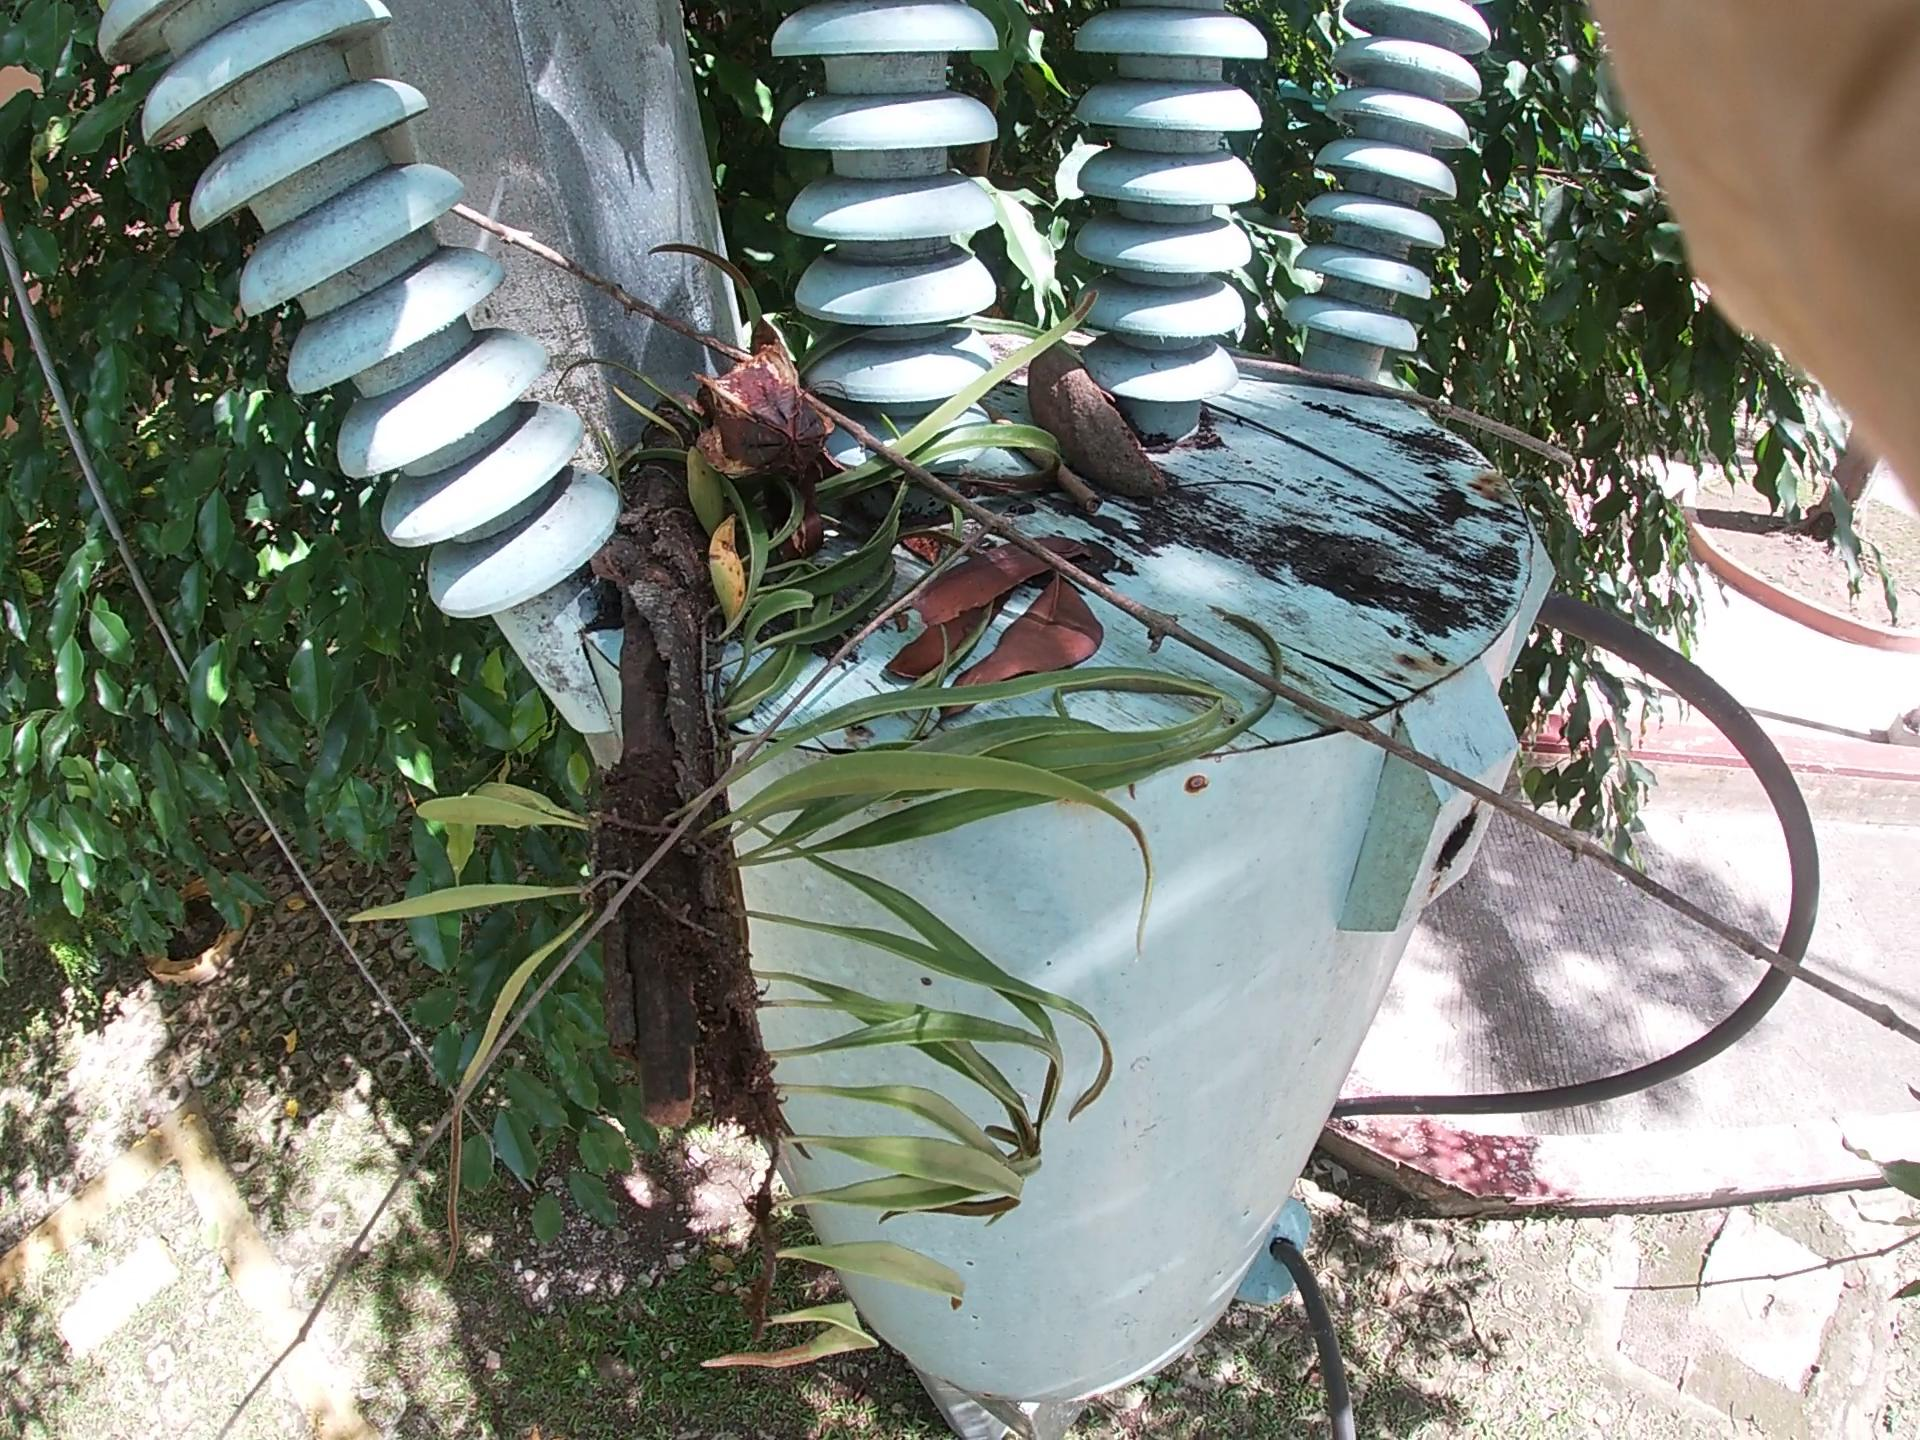branch with leaves: (404, 343, 915, 1221)
leaf: (921, 440, 1179, 773)
mahogany fruit: (674, 331, 940, 604), (1002, 299, 1209, 523)
tree branch: (614, 247, 1920, 1189), (1205, 327, 1795, 579), (1017, 396, 1190, 616)
